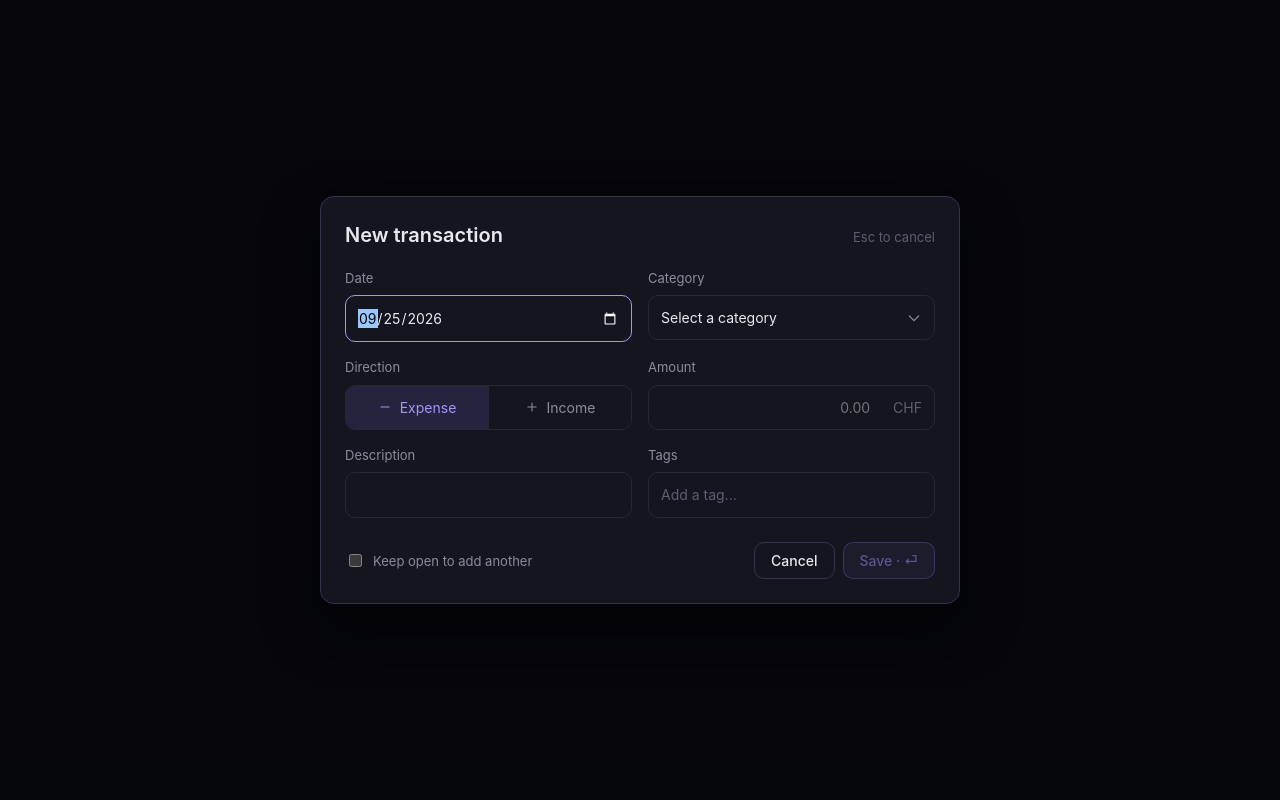
Test: TransactionDialog › "Keep open to add another" leaves the dialog mounted and resets the form after save
Click the checkbox labelled "Keep open to add another": x=356, y=561 x1=349 y1=554 x2=362 y2=567
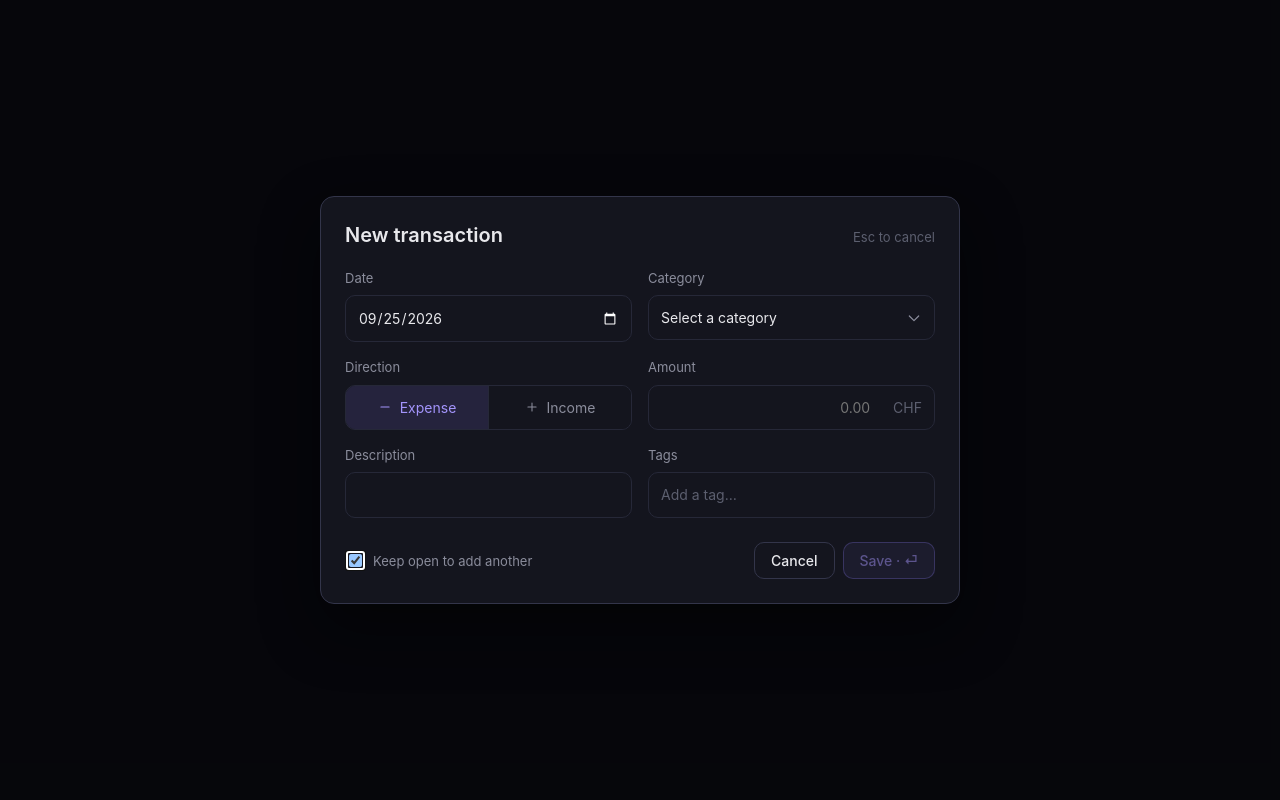
In the field labelled "Description": x=488, y=495 x1=345 y1=472 x2=632 y2=518, type "Migros"
In the number field labelled "Amount": x=773, y=407 x1=661 y1=386 x2=885 y2=429, type "48.90"
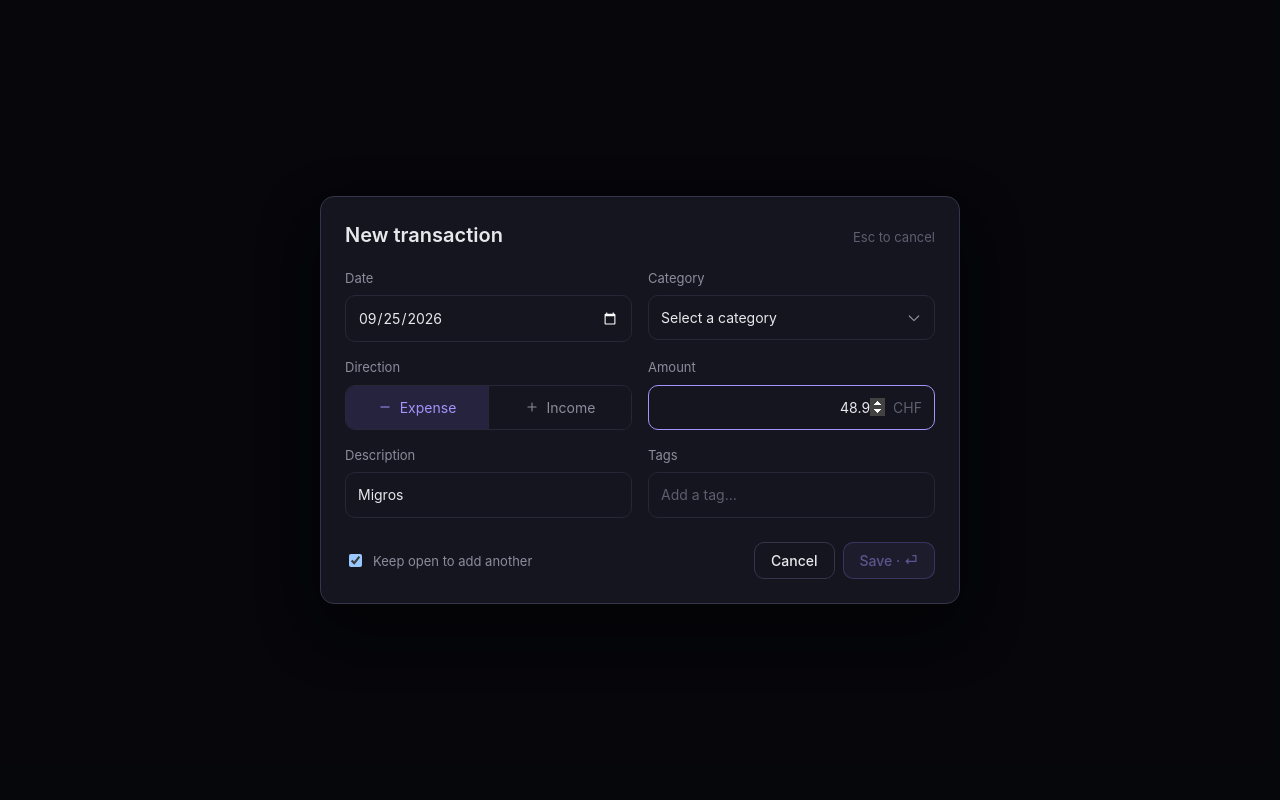
Click the button "Select a category": x=719, y=317 x1=648 y1=295 x2=935 y2=340
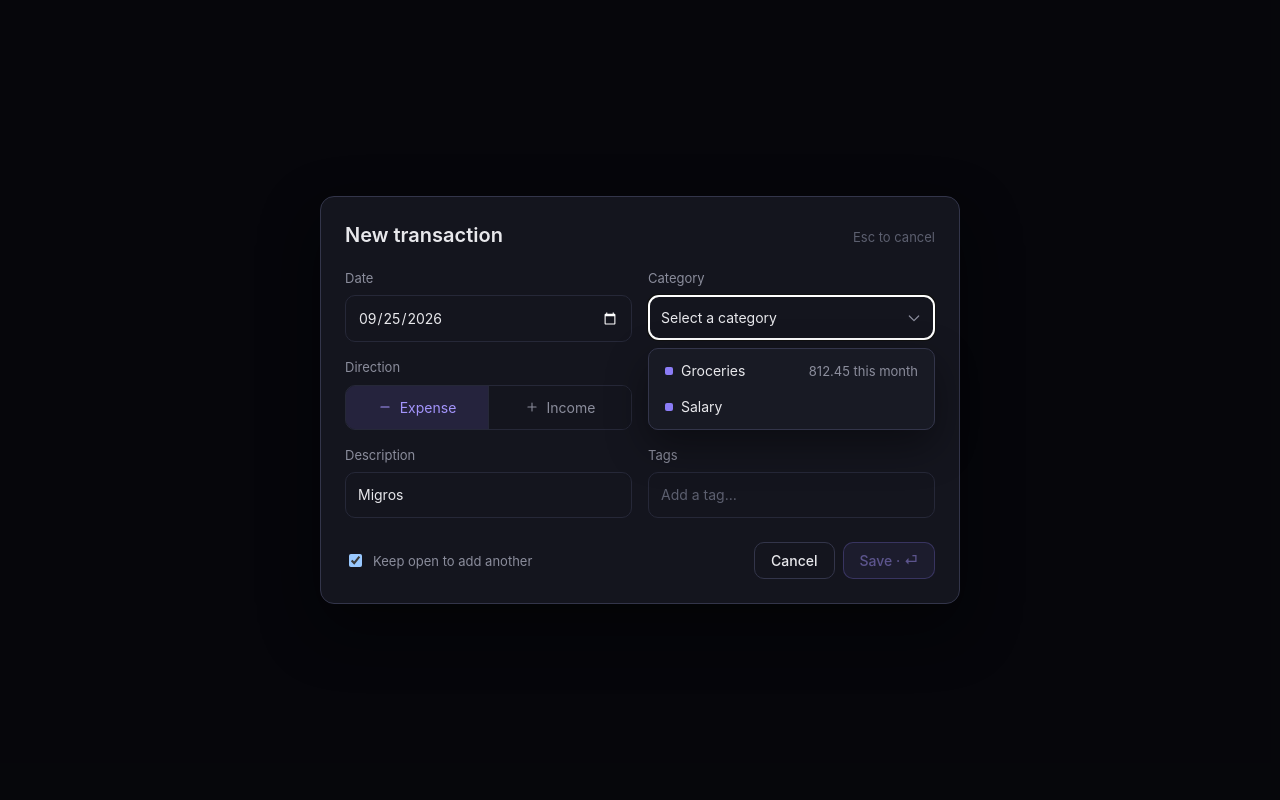
Click the option "Groceries 812.45 this month": x=713, y=371 x1=653 y1=353 x2=930 y2=389
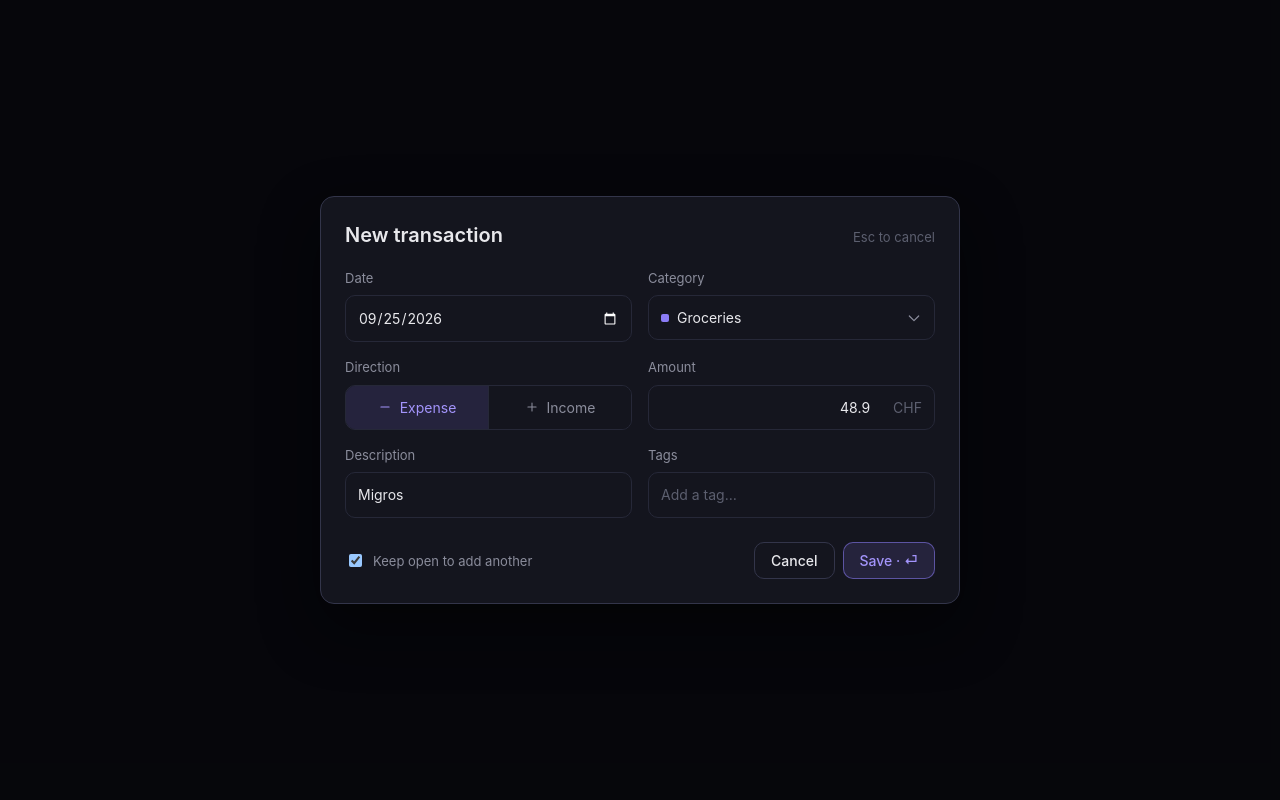
Click the button "Income": x=560, y=407 x1=489 y1=386 x2=631 y2=429
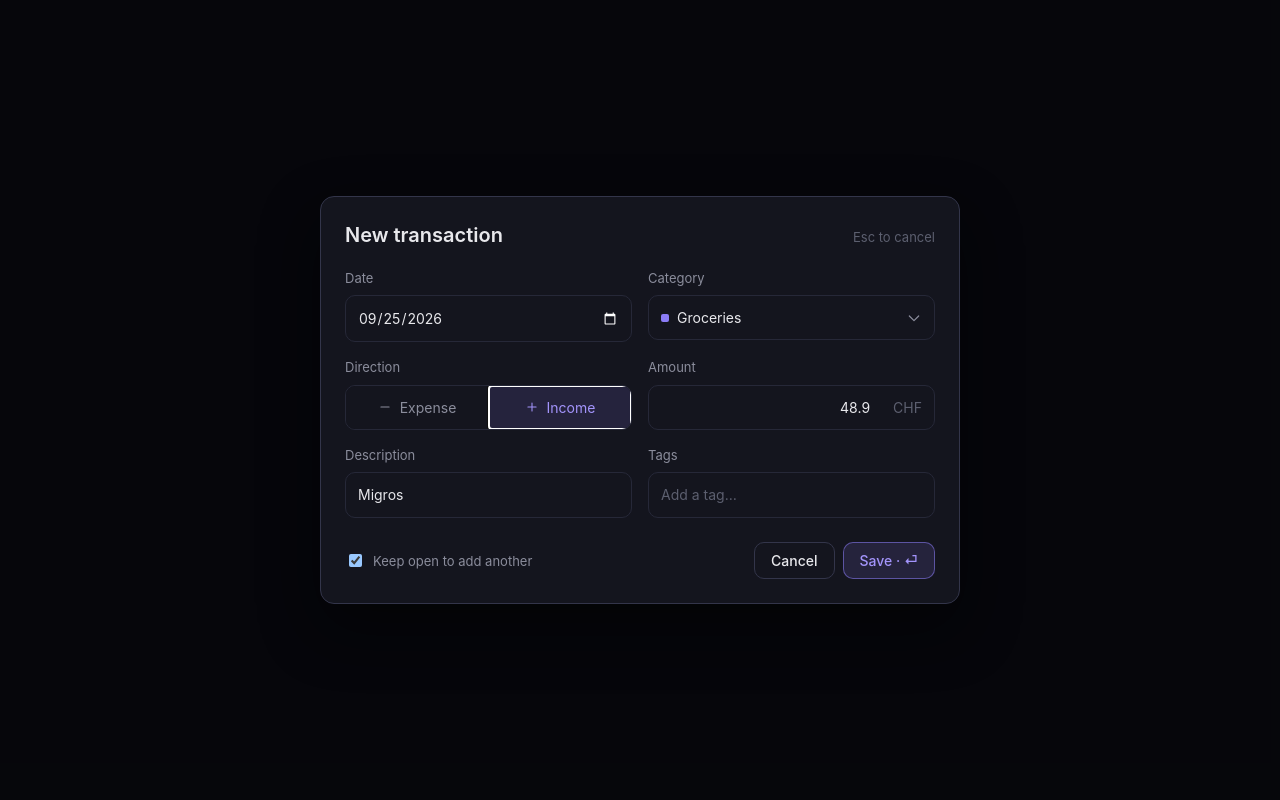
Click the button "Save · ⏎": x=889, y=561 x1=843 y1=542 x2=935 y2=580
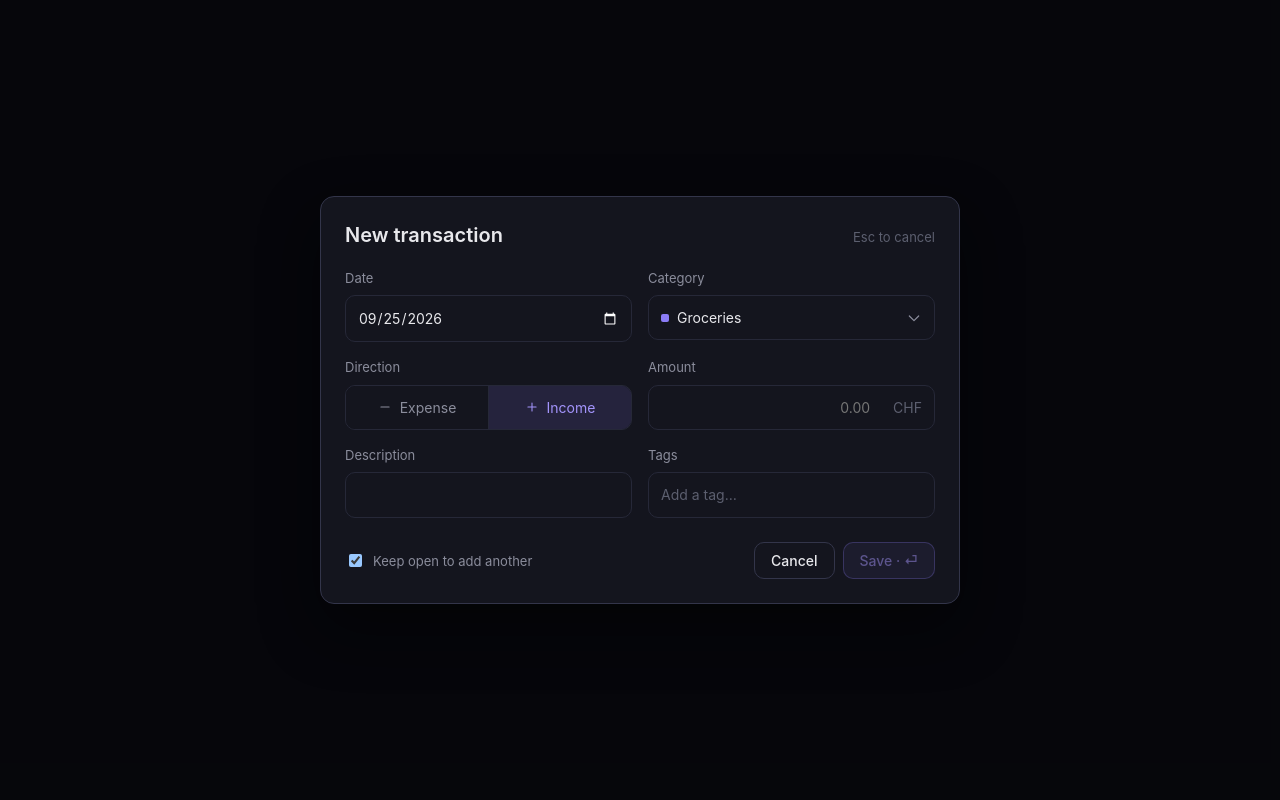
Check: the heading "New transaction" is shown, box x1=345 y1=220 x2=503 y2=248
Check: the button "Groceries" is shown, box x1=648 y1=295 x2=935 y2=340
Check: the field labelled "Description" is empty, box x1=345 y1=472 x2=632 y2=518
